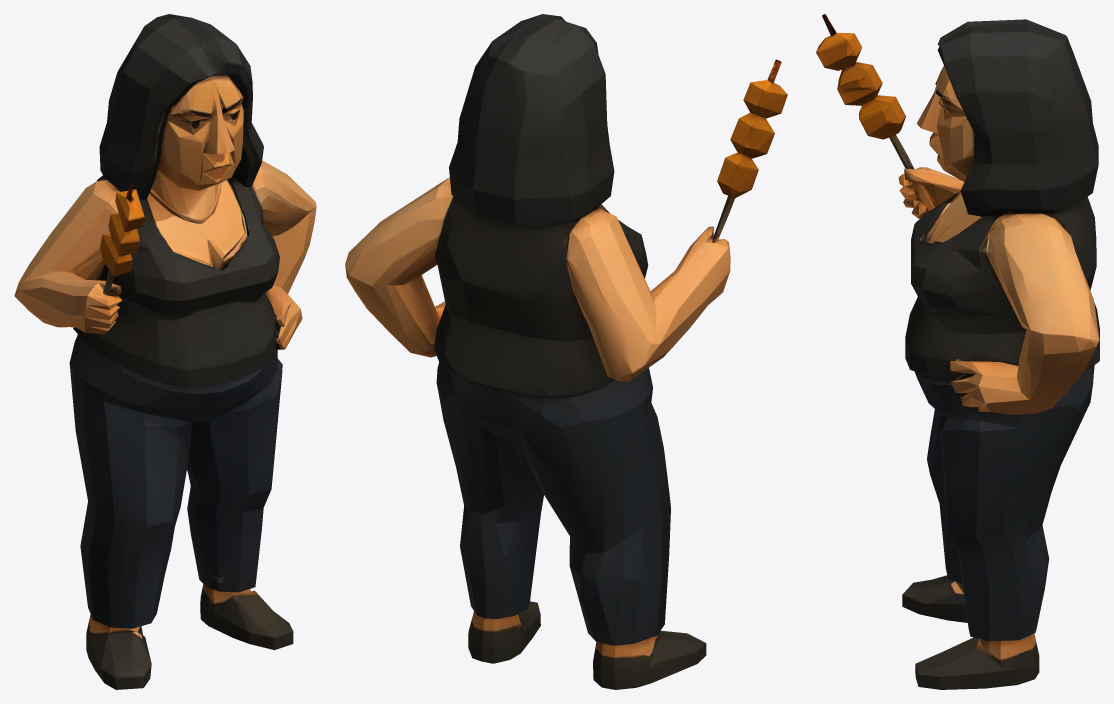
The model's file is woman.glb.
3 views of the same model, side by side, from view 1: azimuth 30°, elevation 25°; view 2: azimuth 150°, elevation 25°; view 3: azimuth 270°, elevation 25° (orthographic). The views are drawn at different scales.
Visible parts, largest first — view 1: model; view 2: model; view 3: model.
Part boxes in pixels (x1,y1,x2,y2): model: (14, 14, 316, 689); model: (345, 14, 787, 689); model: (816, 14, 1099, 689).
Bounding box in the file's own units: 0.9126 × 1.78 × 0.7248.
1 material, 1 textured.
